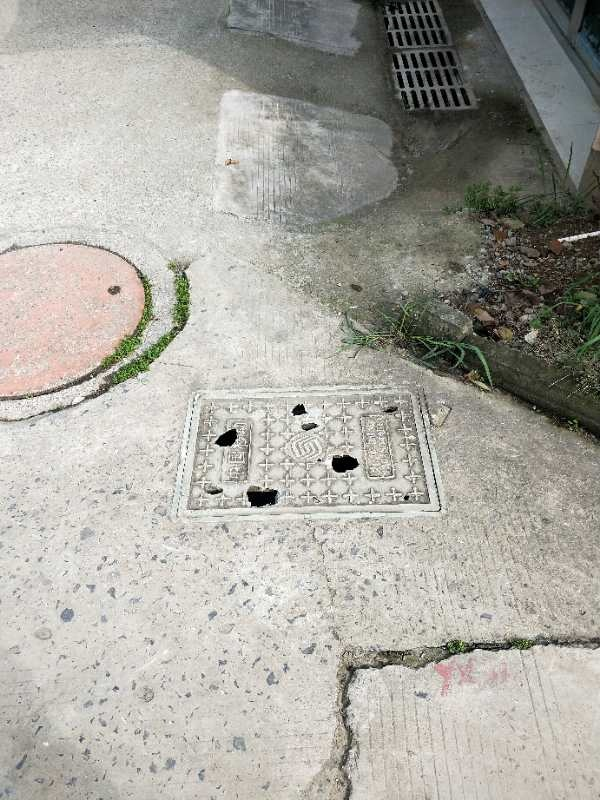broke: (173, 385, 445, 521)
